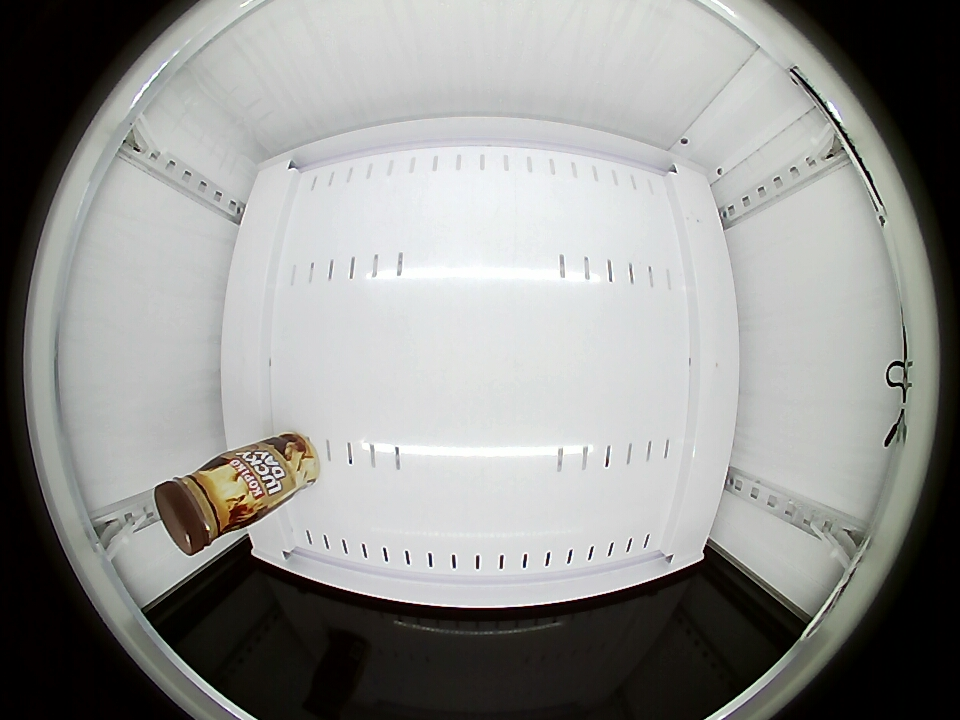lujikafei: (155, 457, 253, 554)
